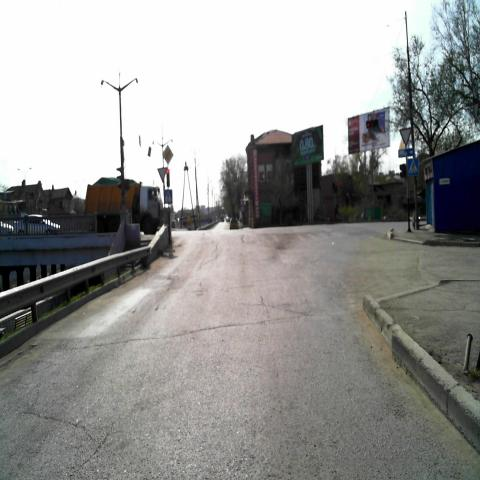6_15_2: (398, 148, 415, 157)
